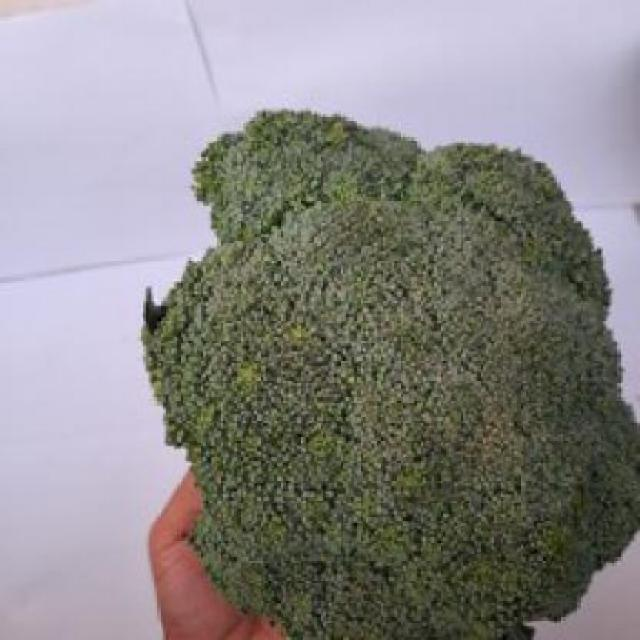broccoli: (160, 116, 629, 630)
